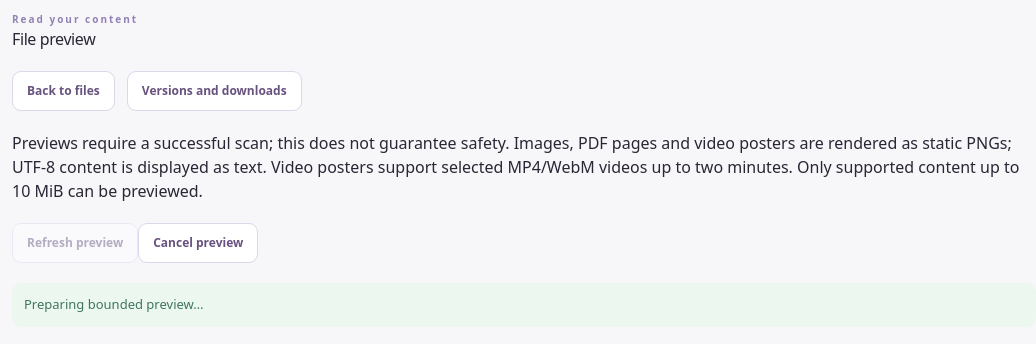
Scenario: cancels a pending preview and permits a fresh request
Click the button "Cancel preview": [198, 243] box [138, 223, 258, 263]
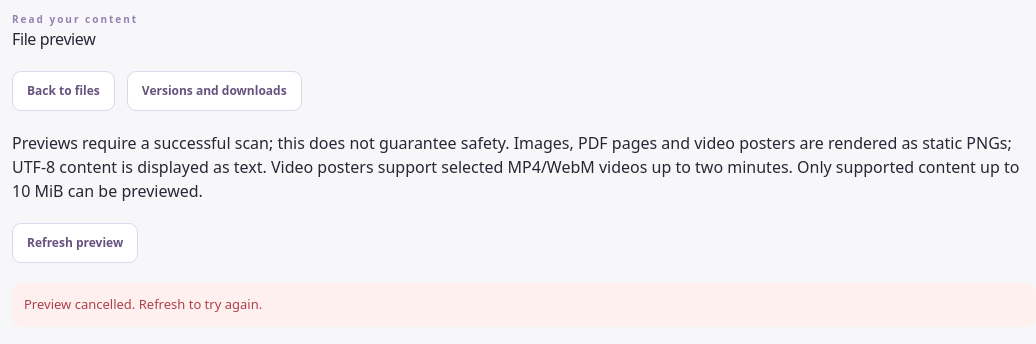
Now the message shows "Preview cancelled", box [24, 295, 262, 313]
Now the button "Refresh preview" is enabled, box [12, 223, 138, 263]
